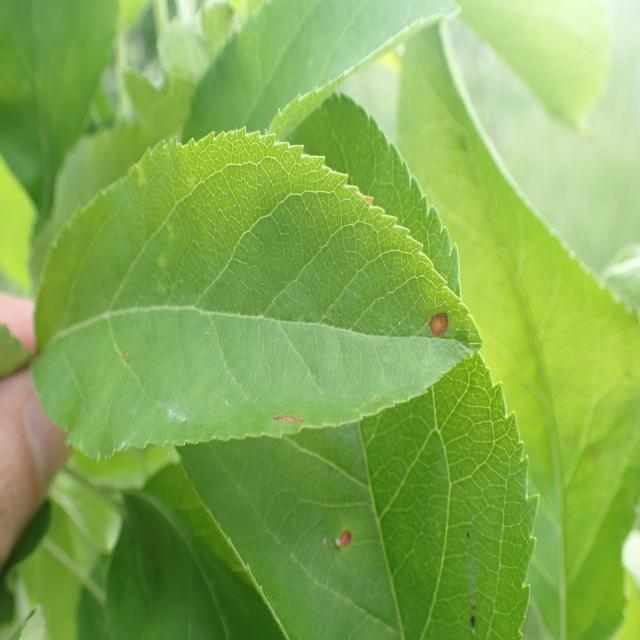Black Rot: (415, 294, 459, 364), (255, 405, 320, 446), (328, 510, 363, 564)
